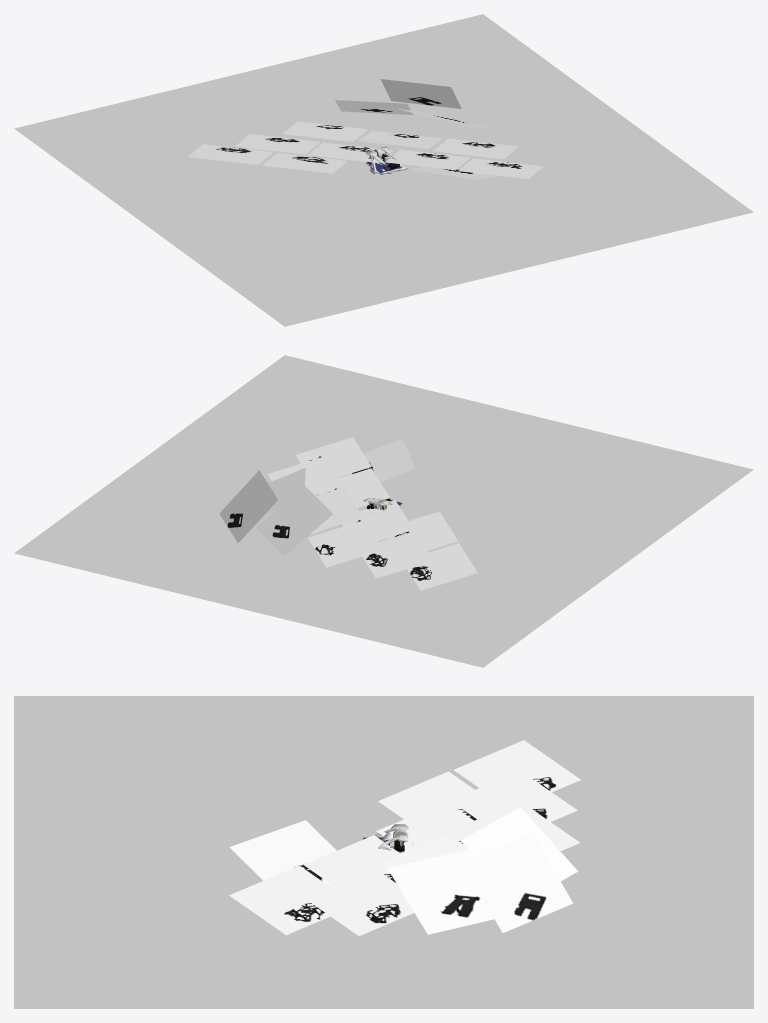
File: Mouse1.glb
3 renders of one model, top to bottom at view 1: azimuth 30°, elevation 25°; view 2: azimuth 150°, elevation 25°; view 3: azimuth 270°, elevation 25°, orthographic. The views are drawn at different scales.
Visible parts, largest first — view 1: Plane.004, Empty.001, Empty.024, Empty.016, Empty.018, Empty.019, Empty.022, Empty.023, Empty.021, Empty.017, Empty.020, Empty.014; view 2: Plane.004, Empty.014, Empty.016, Empty.001, Empty.019, Empty.023, Empty.022, Empty.025, Empty.020, Empty.018, Empty.024, Empty.021 (+2 smaller); view 3: Plane.004, Empty.001, Empty.015, Empty.018, Empty.022, Empty.025, Empty.019, Empty.023, Empty.014, Empty.021, Empty.024, Empty.020 (+2 smaller).
Part boxes in pixels (x1=…): Plane.004: x1=14, y1=14, x2=753, y2=326; Empty.001: x1=380, y1=79, x2=461, y2=108; Empty.024: x1=262, y1=153, x2=347, y2=173; Empty.016: x1=282, y1=121, x2=367, y2=141; Empty.018: x1=433, y1=138, x2=518, y2=159; Empty.019: x1=235, y1=134, x2=319, y2=154; Empty.022: x1=458, y1=158, x2=543, y2=178; Empty.023: x1=188, y1=144, x2=272, y2=164; Empty.021: x1=385, y1=149, x2=470, y2=170; Empty.017: x1=358, y1=130, x2=442, y2=148; Empty.020: x1=308, y1=142, x2=393, y2=163; Empty.014: x1=335, y1=100, x2=413, y2=115; Plane.004: x1=14, y1=355, x2=753, y2=667; Empty.014: x1=256, y1=486, x2=332, y2=556; Empty.016: x1=308, y1=520, x2=383, y2=567; Empty.001: x1=219, y1=470, x2=277, y2=542; Empty.019: x1=362, y1=531, x2=432, y2=578; Empty.023: x1=407, y1=543, x2=477, y2=590; Empty.022: x1=296, y1=437, x2=371, y2=477; Empty.025: x1=338, y1=438, x2=415, y2=482; Empty.020: x1=342, y1=500, x2=413, y2=540; Empty.018: x1=267, y1=456, x2=343, y2=494; Empty.024: x1=388, y1=511, x2=457, y2=550; Empty.021: x1=319, y1=468, x2=389, y2=507; Plane.004: x1=14, y1=696, x2=753, y2=1008; Empty.001: x1=462, y1=833, x2=572, y2=932; Empty.015: x1=387, y1=849, x2=494, y2=934; Empty.018: x1=302, y1=866, x2=414, y2=935; Empty.022: x1=229, y1=865, x2=330, y2=935; Empty.025: x1=229, y1=820, x2=336, y2=884; Empty.019: x1=450, y1=770, x2=577, y2=821; Empty.023: x1=453, y1=740, x2=580, y2=791; Empty.014: x1=460, y1=807, x2=577, y2=880; Empty.021: x1=304, y1=835, x2=400, y2=883; Empty.024: x1=378, y1=771, x2=479, y2=822; Empty.020: x1=376, y1=801, x2=476, y2=851.
Bounding box in the file's own units: 1000 × 129 × 1000.
Materials: 22 (13 with a texture image).
